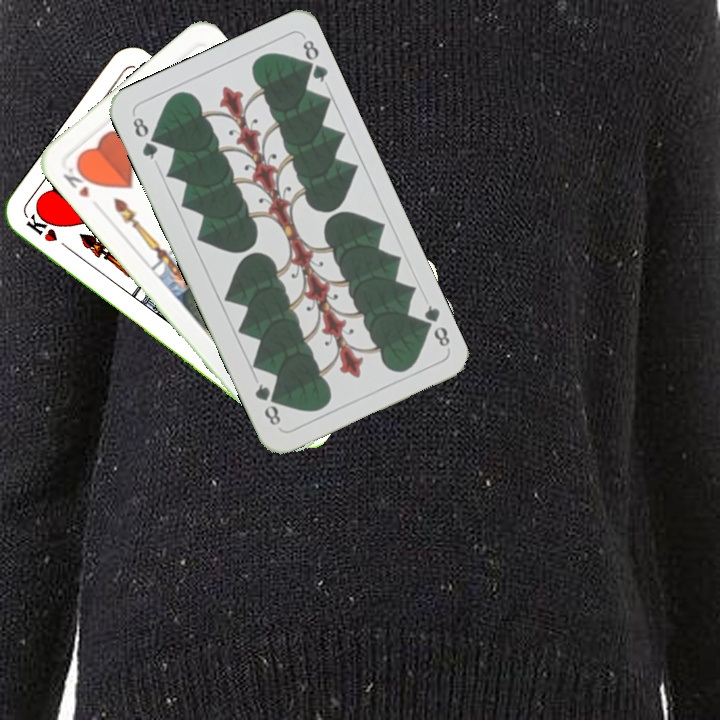G8: (416, 301, 453, 350), (128, 113, 161, 162)
HK: (22, 209, 74, 254), (58, 160, 97, 201)
